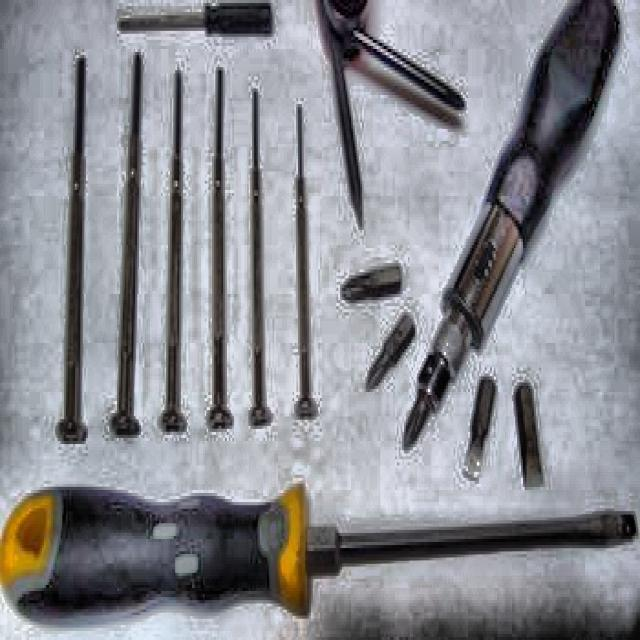screwdriver: (0, 482, 637, 630)
